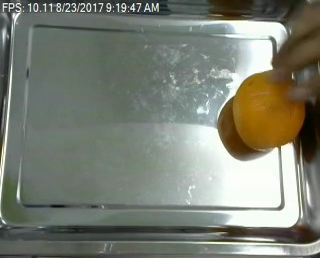Orange: (233, 71, 304, 151)
